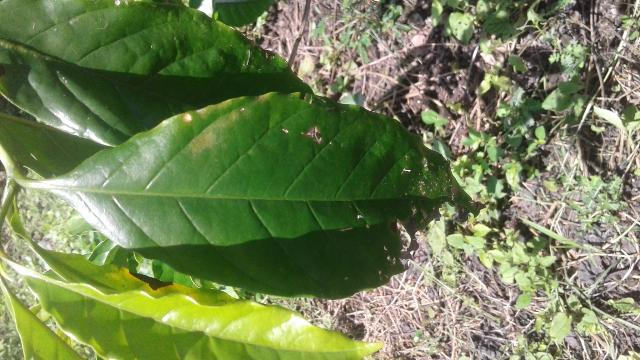rust_level_1: (46, 92, 498, 299)
